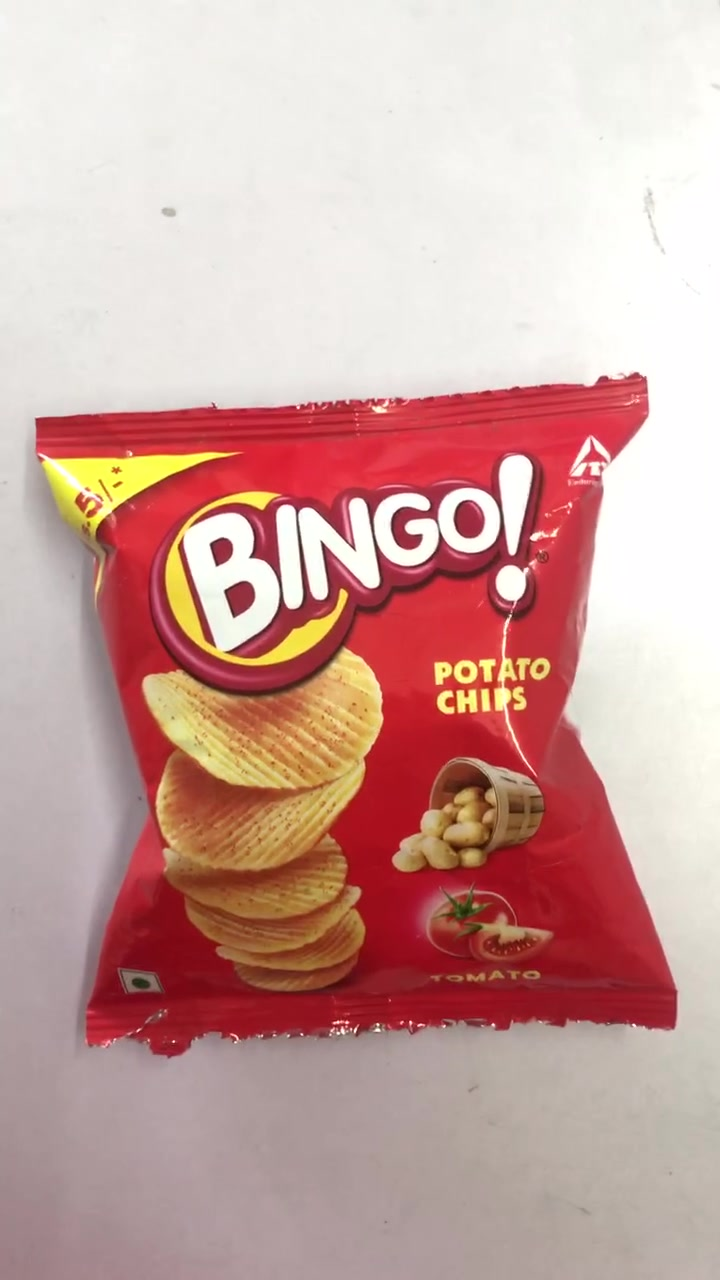Bingo: (48, 416, 674, 1018)
